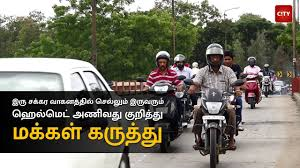helmet: (205, 42, 224, 68), (156, 50, 171, 70), (174, 52, 186, 68)
